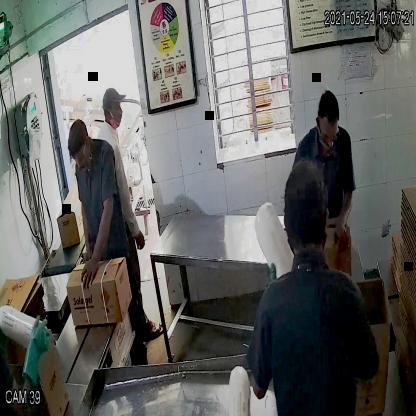goggles: (315, 123, 340, 146)
no_goggles: (101, 100, 124, 119)
